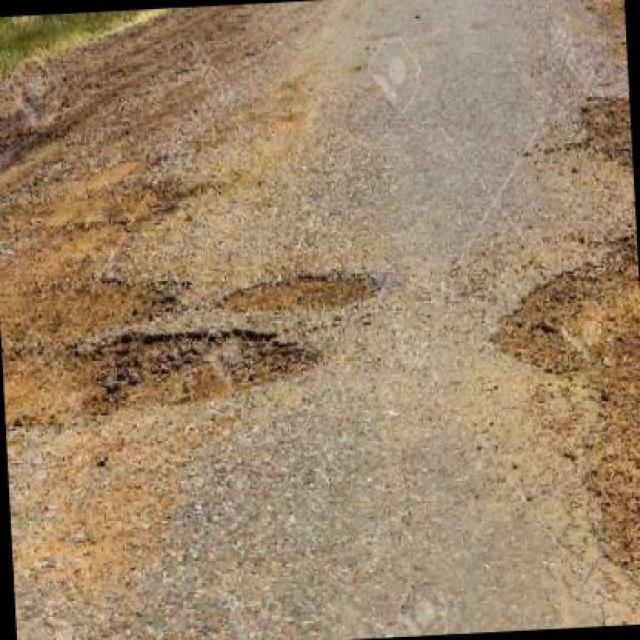pothole1: (70, 316, 321, 427), (482, 228, 638, 403), (217, 263, 383, 317), (573, 88, 632, 175)
